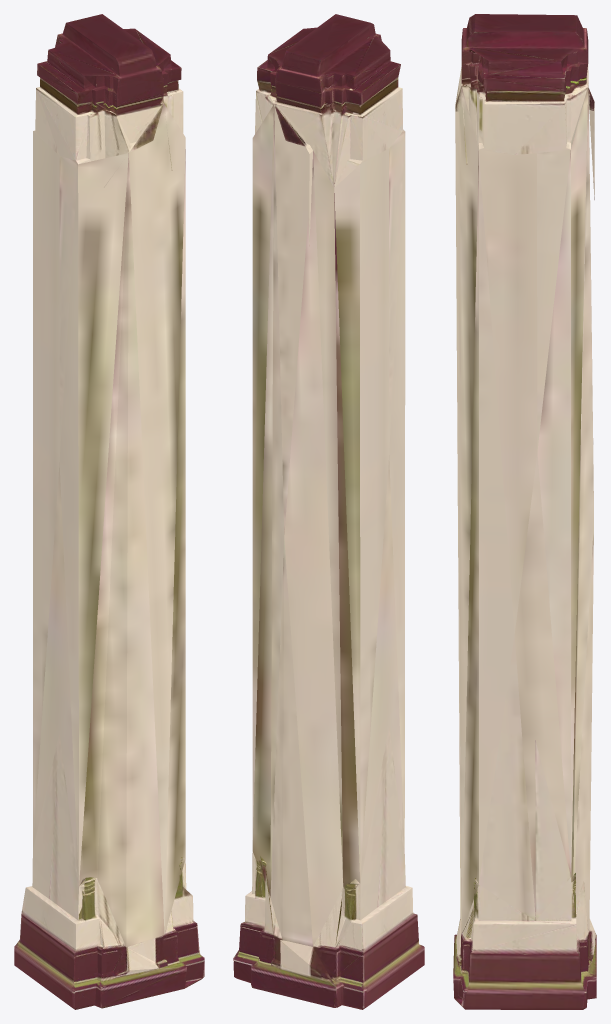
Rendered from cinema-pilaster-CNb0FKCf.glb.
3 views of the same model, side by side, from view 1: azimuth 30°, elevation 25°; view 2: azimuth 150°, elevation 25°; view 3: azimuth 270°, elevation 25° (orthographic).
Visible parts, largest first — view 1: Mesh_0; view 2: Mesh_0; view 3: Mesh_0.
Boxes of the visible parts, x1,y1,x2,y2 form: Mesh_0: (14,14,204,1009); Mesh_0: (233,14,424,1009); Mesh_0: (453,14,596,1009).
Bounding box in the file's own units: 0.2828 × 1.9 × 0.2582.
Materials: 1 (1 with a texture image).
